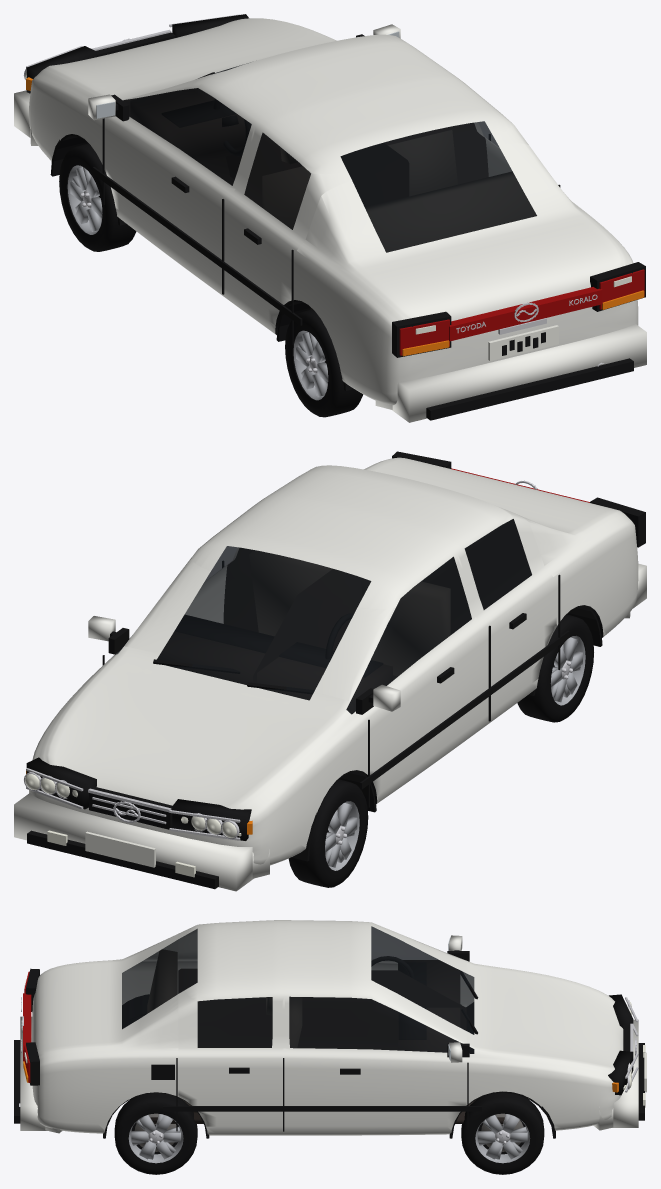
Rendered from veh_berline.glb.
The picture shows the model from 3 angles, top to bottom: view 1: azimuth 30°, elevation 25°; view 2: azimuth 150°, elevation 25°; view 3: azimuth 270°, elevation 25°; orthographic projection. The views are drawn at different scales.
Visible parts, largest first — view 1: veh_berline_caisse, veh_berline_details, veh_berline_interieur, porte_g0, porte_g1, veh_berline_roue_arg, veh_berline_roue_avg, porte_d1; view 2: veh_berline_caisse, veh_berline_details, porte_g0, veh_berline_interieur, porte_g1, porte_d0, veh_berline_roue_avg, veh_berline_roue_arg; view 3: veh_berline_caisse, porte_d0, porte_d1, veh_berline_details, veh_berline_interieur, veh_berline_roue_avd, veh_berline_roue_ard, porte_g0, porte_g1.
Part boxes in pixels (box(x1,y1,x2,y2)): veh_berline_caisse: box(29, 18, 638, 405); veh_berline_details: box(14, 14, 646, 422); veh_berline_interieur: box(130, 88, 536, 309); porte_g0: box(106, 67, 251, 286); porte_g1: box(225, 133, 408, 325); veh_berline_roue_arg: box(285, 309, 363, 417); veh_berline_roue_avg: box(59, 143, 136, 251); porte_d1: box(439, 121, 528, 176); veh_berline_caisse: box(29, 457, 638, 865); veh_berline_details: box(14, 451, 646, 891); porte_g0: box(253, 562, 487, 795); veh_berline_interieur: box(157, 550, 484, 809); porte_g1: box(460, 509, 556, 712); porte_d0: box(116, 546, 265, 668); veh_berline_roue_avg: box(288, 779, 368, 887); veh_berline_roue_arg: box(517, 614, 593, 722); veh_berline_caisse: box(31, 920, 623, 1135); porte_d0: box(285, 970, 466, 1126); porte_d1: box(178, 969, 282, 1126); veh_berline_details: box(14, 935, 646, 1138); veh_berline_interieur: box(147, 949, 504, 1123); veh_berline_roue_avd: box(461, 1092, 544, 1174); veh_berline_roue_ard: box(114, 1092, 197, 1174); porte_g0: box(371, 927, 466, 1006); porte_g1: box(178, 927, 197, 969).
Size of the model in its own units: 1.96 by 1.43 by 4.57.
